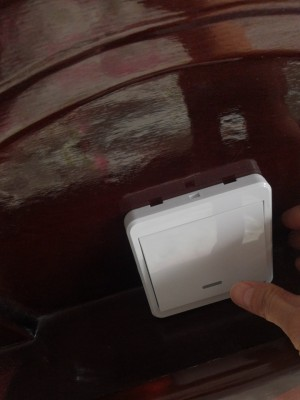switch: (136, 204, 272, 300)
